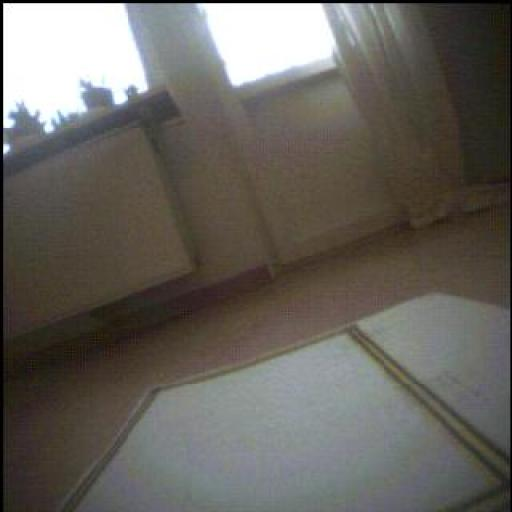Pad: (65, 297, 510, 512), (358, 296, 511, 459)
